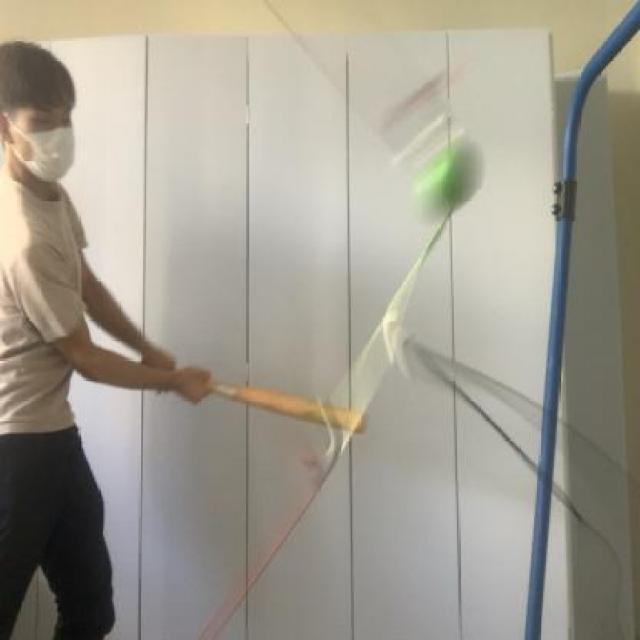baseball: (392, 124, 497, 230)
